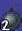bomb: (0, 1, 22, 31)
